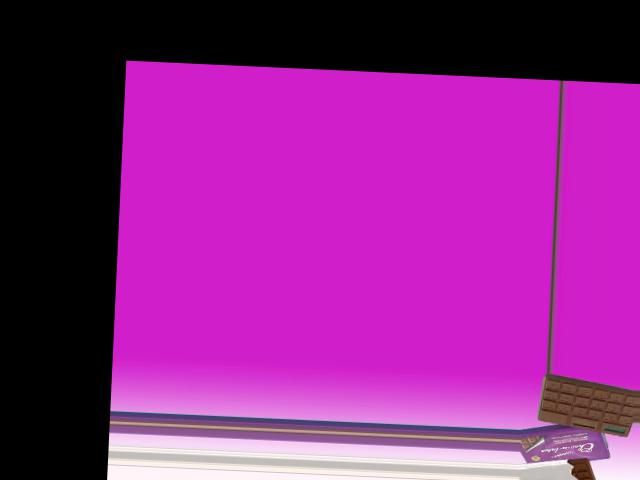chocolate: (538, 372, 631, 438)
